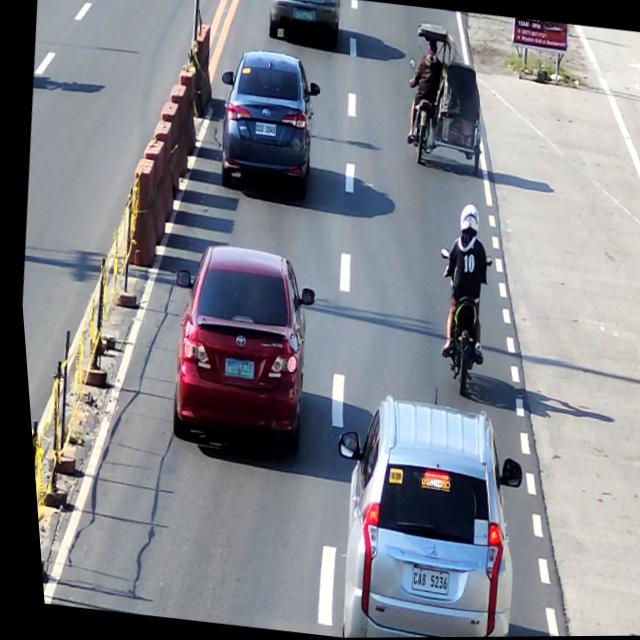Car: (306, 390, 531, 638), (148, 238, 325, 457), (206, 47, 329, 196), (264, 0, 342, 50)
License-Plate: (401, 567, 441, 595), (217, 357, 249, 380), (252, 122, 274, 137), (296, 8, 312, 21)
Motorcycle: (417, 243, 498, 399)
Tricycle: (393, 20, 495, 175)
